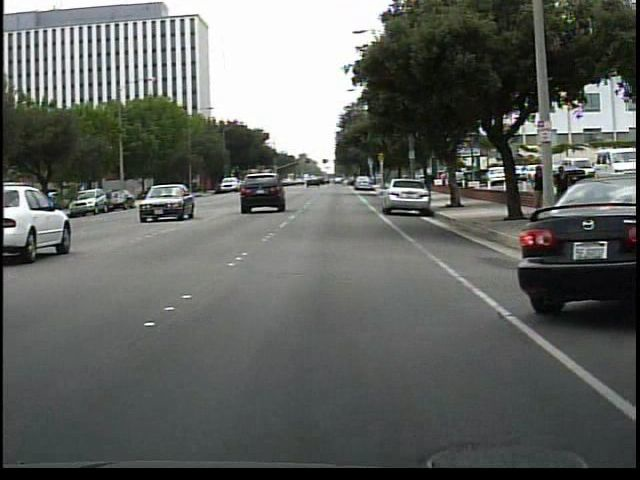person: (528, 161, 551, 222), (549, 158, 571, 216)
